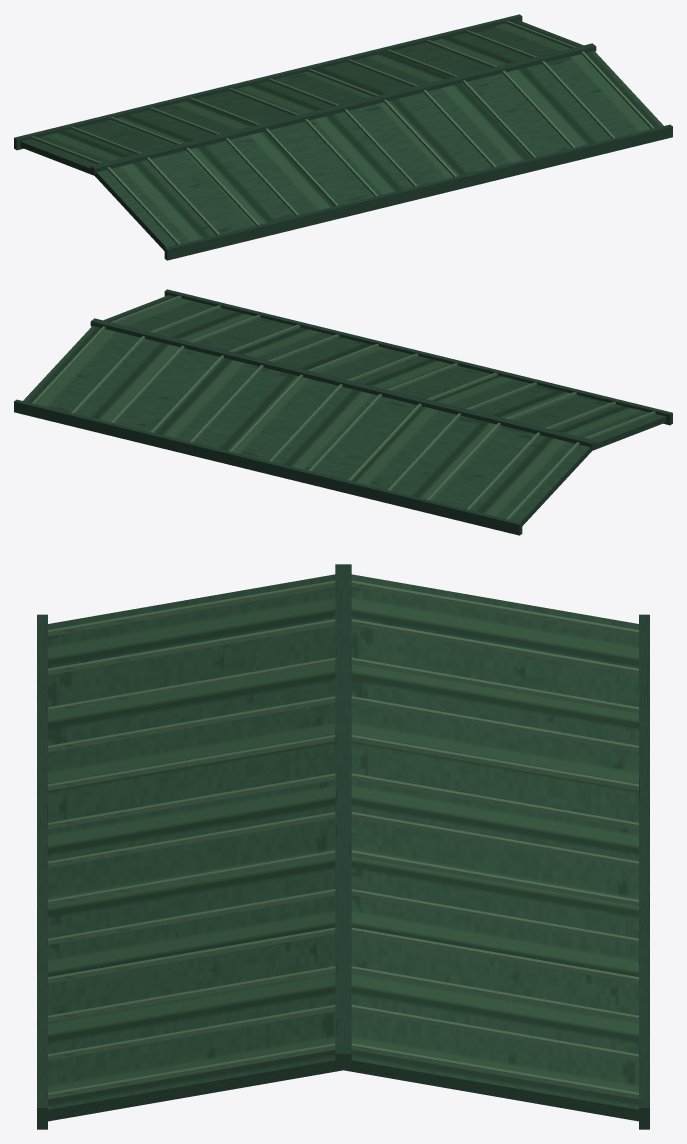
The model's file is ShopRoof.fbx.
The picture shows the model from 3 angles, top to bottom: view 1: azimuth 30°, elevation 25°; view 2: azimuth 150°, elevation 25°; view 3: azimuth 270°, elevation 25°; orthographic projection. The views are drawn at different scales.
Visible parts, largest first — view 1: ShopRoof; view 2: ShopRoof; view 3: ShopRoof.
Boxes of the visible parts, x1=… form: ShopRoof: x1=14, y1=14, x2=672, y2=260; ShopRoof: x1=14, y1=289, x2=672, y2=535; ShopRoof: x1=37, y1=564, x2=649, y2=1129.
Bounding box in the file's own units: 1280 × 89 × 672.
